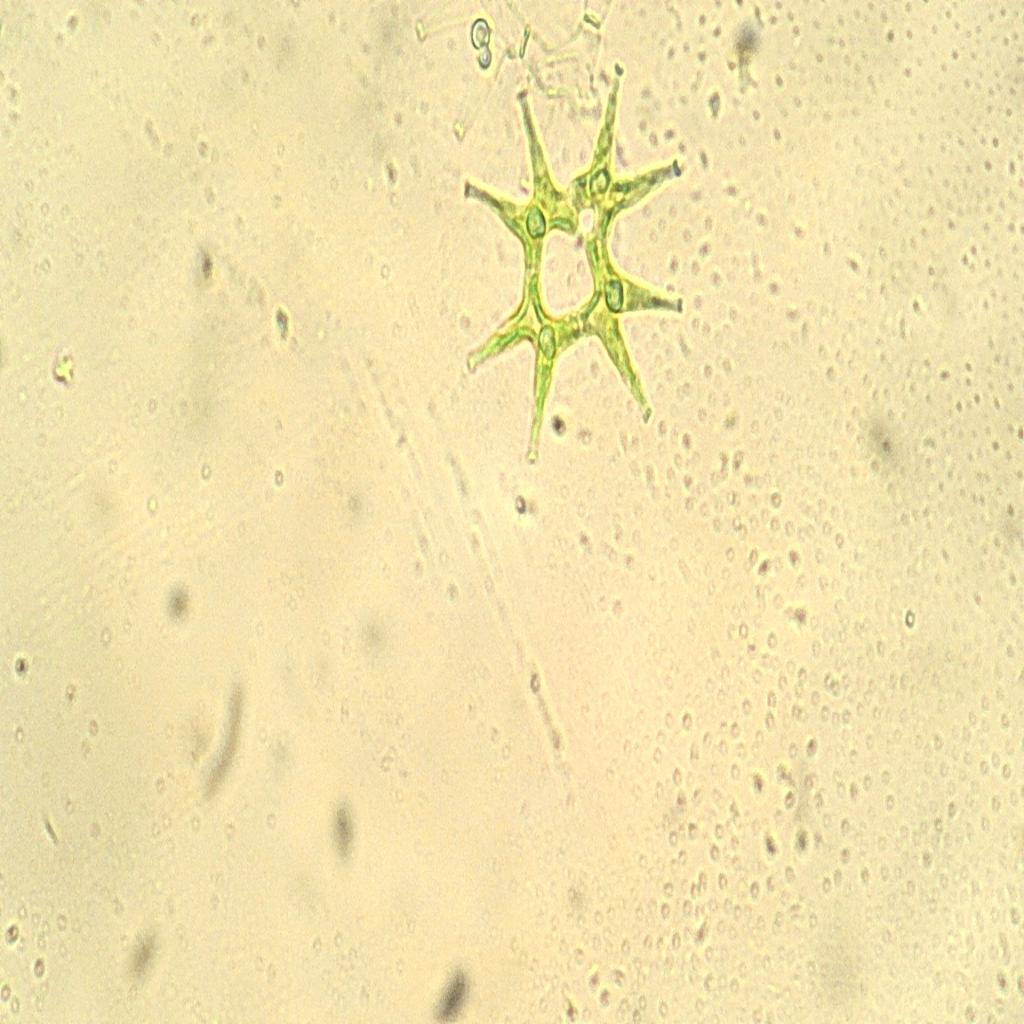Pediastrum_CF: (448, 56, 700, 484)
